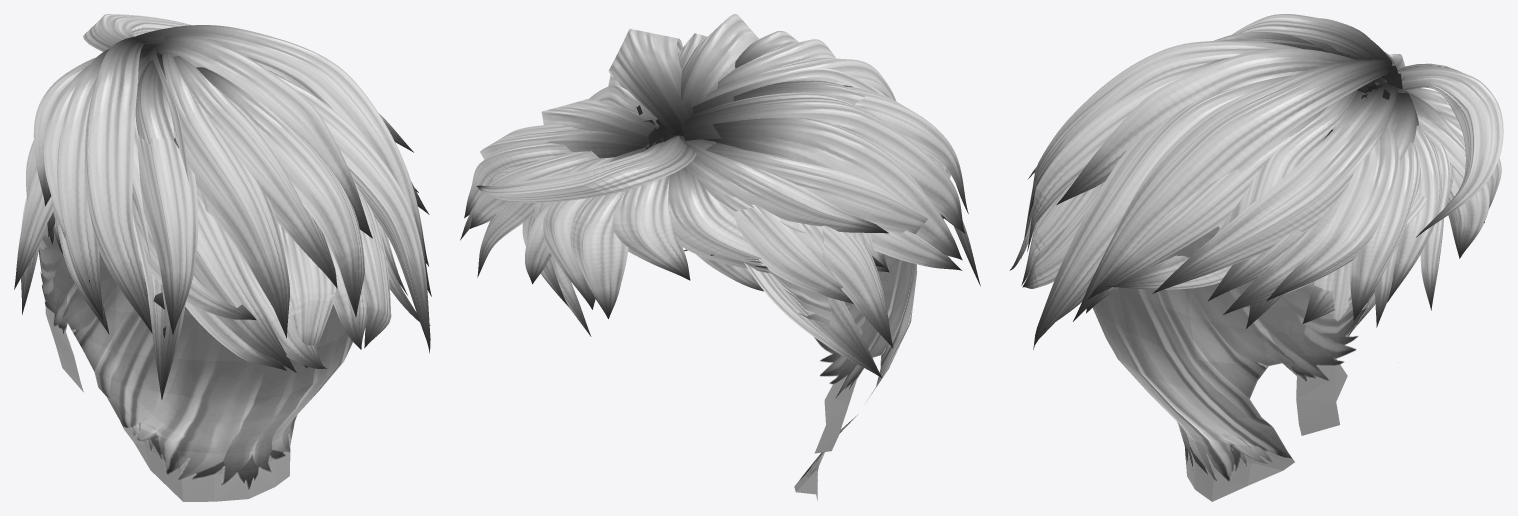
File: hair-masculine-sweptBack.glb
3 renders of one model, left to right at view 1: azimuth 30°, elevation 25°; view 2: azimuth 150°, elevation 25°; view 3: azimuth 270°, elevation 25°, orthographic. The views are drawn at different scales.
Parts seen in each view (by area): view 1: hair-sweptBack; view 2: hair-sweptBack; view 3: hair-sweptBack.
Boxes of the visible parts, x1=… form: hair-sweptBack: x1=14, y1=14, x2=431, y2=501; hair-sweptBack: x1=460, y1=14, x2=980, y2=500; hair-sweptBack: x1=1010, y1=14, x2=1503, y2=501.
Size of the model in its own units: 0.2473 by 0.2641 by 0.2723.
3 materials, 3 textured.
